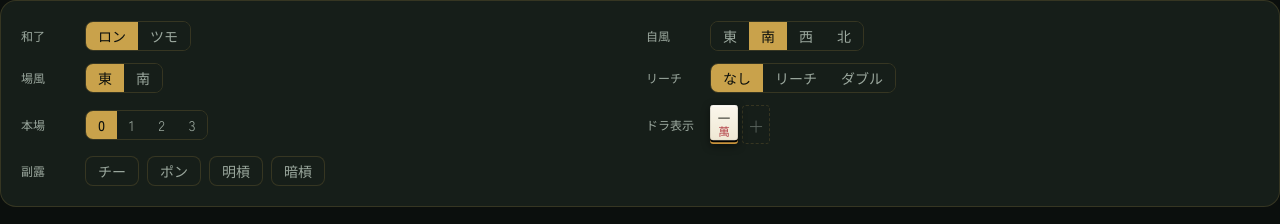
it: ContextForm › ドラ表示牌をクリックすると削除される
This screenshot has width=1280, height=224.
What coordinates should you click on to do the following:
click the button named "ドラ表示のm1を削除"
I would click on:
 (724, 124)
Its box is 710,105 -> 738,144.
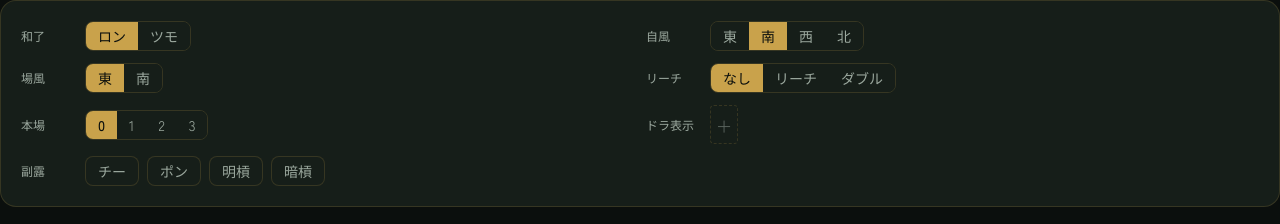
Expected: the button "ドラ表示のm1を削除" is gone
